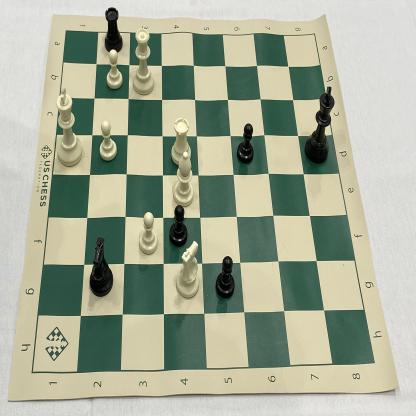black-king: (303, 83, 338, 167)
black-knight: (81, 233, 116, 300)
black-pawn: (213, 253, 238, 301), (167, 199, 190, 248), (234, 121, 256, 167)
black-rook: (102, 2, 125, 56)
white-bishop: (171, 149, 196, 210)
white-king: (51, 82, 85, 170)
white-knight: (174, 239, 205, 300)
white-pawn: (137, 207, 160, 260), (95, 116, 120, 164), (105, 49, 125, 93)
white-queen: (131, 23, 159, 98)
white-rook: (168, 112, 195, 169)
